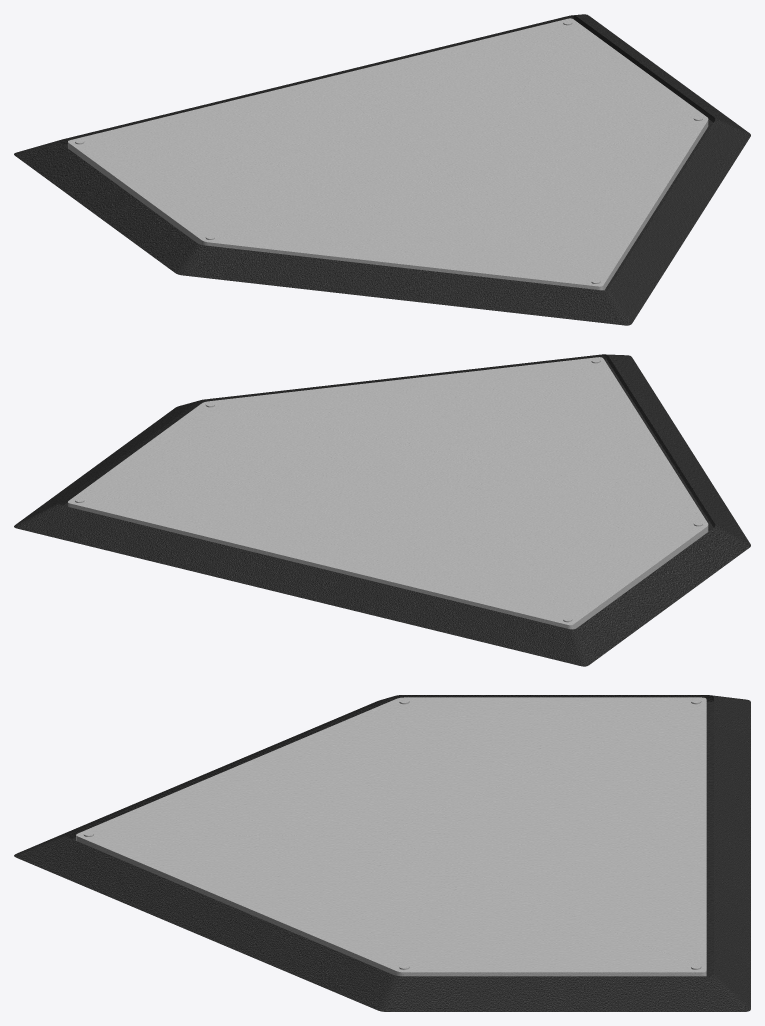
File: Home Plate.fbx
3 views of the same model, one above another, from view 1: azimuth 30°, elevation 25°; view 2: azimuth 150°, elevation 25°; view 3: azimuth 270°, elevation 25° (orthographic). The views are drawn at different scales.
Parts seen in each view (by area): view 1: Home Plate; view 2: Home Plate; view 3: Home Plate.
Part boxes in pixels (bbox=[...]): Home Plate: bbox=[14, 14, 750, 325]; Home Plate: bbox=[14, 354, 750, 666]; Home Plate: bbox=[14, 695, 750, 1011].
Size of the model in its own units: 18.41 by 0.6059 by 18.35.
2 materials, 2 textured.
